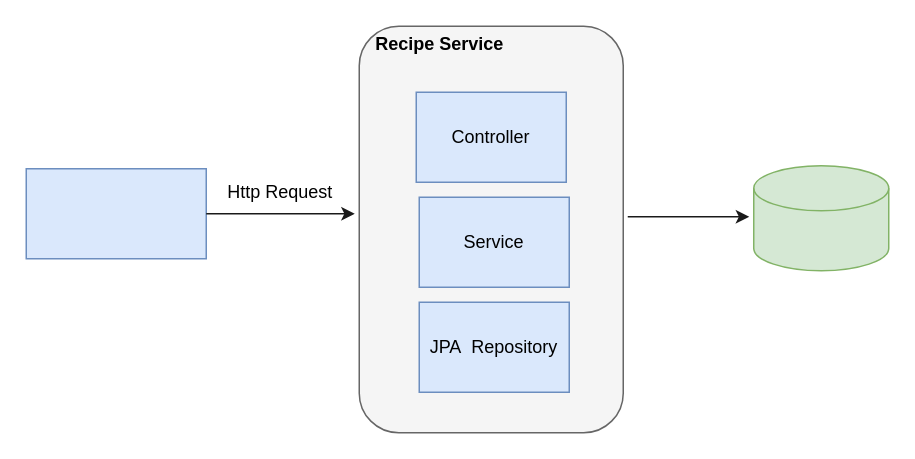
Some shapes in this 915 by 459 pixel diagram are drawn without their labels. Here are the shapes that lost their labels. From the top down, the box of each, then its label:
(25, 167, 206, 259): Client
(752, 164, 889, 271): H2 Database
